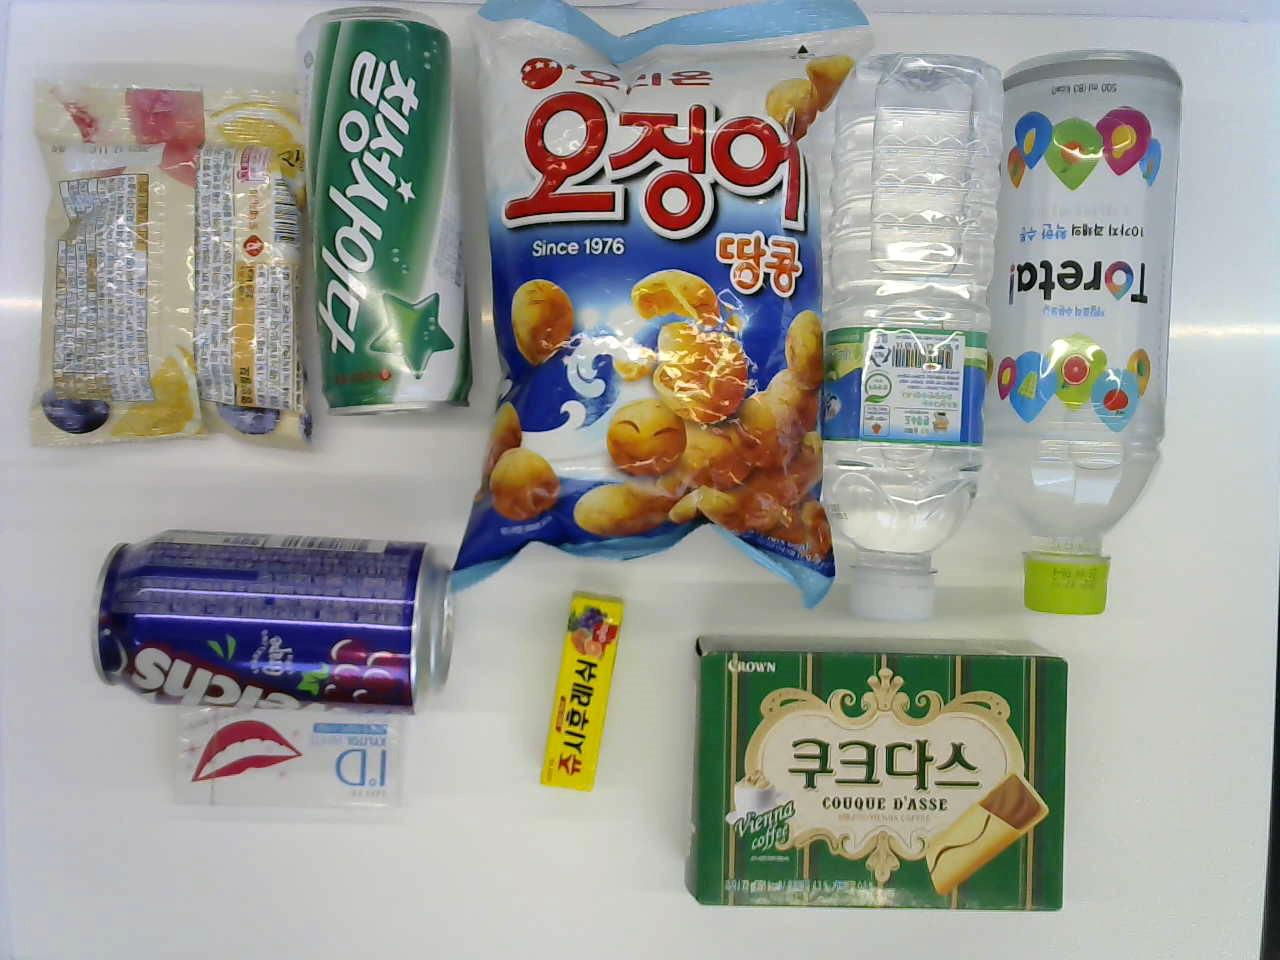ID_gum: (162, 683, 406, 831)
cidar: (298, 4, 460, 430)
couque_coffee: (669, 629, 1072, 932)
gumi_gumi: (18, 69, 316, 450)
juicyfresh: (524, 591, 628, 793)
samdasu: (801, 40, 1023, 635)
squid_peanut: (457, 5, 878, 592)
toreta: (984, 27, 1205, 621)
welchs: (91, 519, 447, 716)
